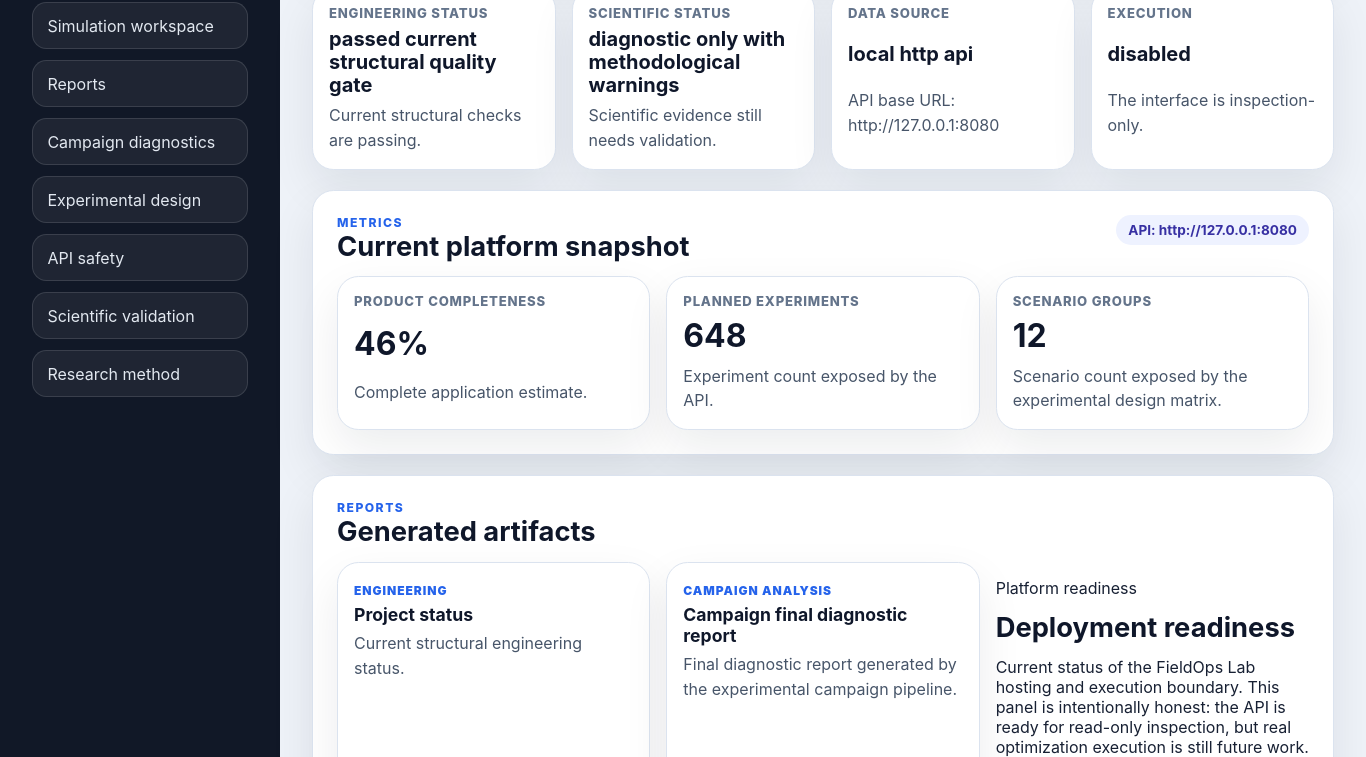
Scenario: App dashboard › navigates to the research method page
The image size is (1366, 757).
(page scrolled)
Click the button "Research method": (140, 374) [32,350,248,397]
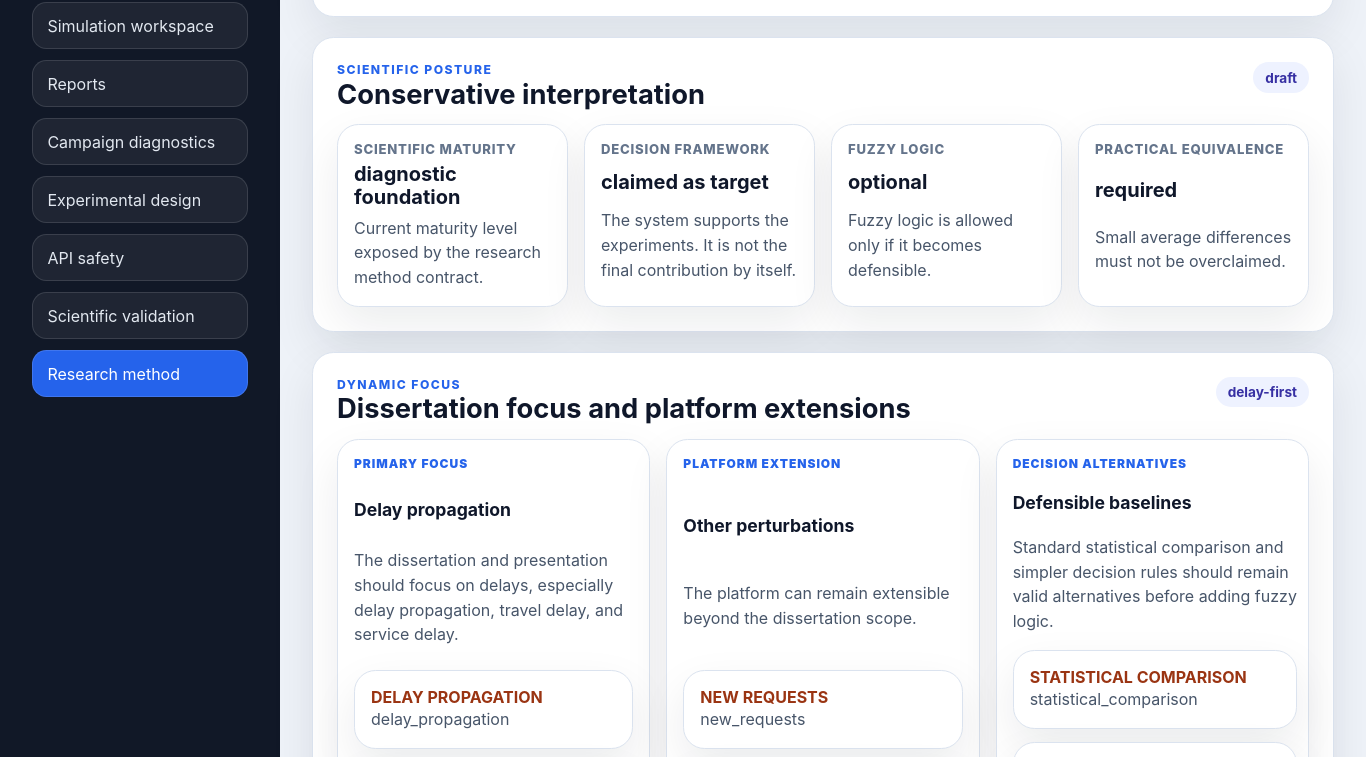
Now the heading "Delay propagation" is shown, box [354,499,511,520]
Now the text "optional" is shown, box [848,170,927,194]
Now the text "Practical equivalence" is shown, box [1095,141,1284,157]
